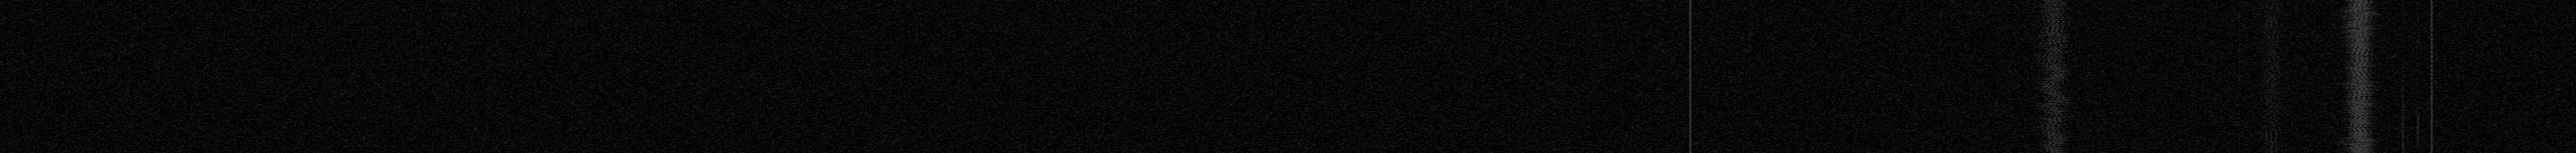wv_am: (2430, 0, 2433, 153), (1689, 0, 1692, 153)
wv_lsb: (2402, 92, 2405, 153), (2402, 58, 2403, 84), (2402, 0, 2403, 26), (2402, 28, 2403, 49), (2402, 86, 2403, 92), (2402, 53, 2403, 56)
wv_usb: (2417, 92, 2420, 151), (2417, 0, 2420, 26), (2238, 63, 2241, 84), (2238, 20, 2241, 35), (2417, 49, 2420, 63), (2417, 38, 2420, 49), (2417, 74, 2420, 84), (2417, 28, 2420, 38), (2238, 137, 2241, 145), (2238, 44, 2241, 53), (2238, 3, 2241, 12), (2417, 86, 2420, 92), (2238, 13, 2241, 20), (2238, 105, 2241, 110), (2417, 67, 2420, 71), (2417, 63, 2420, 66), (2238, 133, 2241, 137), (2238, 130, 2241, 133), (2238, 125, 2241, 128), (2238, 99, 2241, 102), (2238, 90, 2241, 94), (2238, 84, 2241, 87), (2238, 54, 2241, 58), (2238, 41, 2241, 44), (2238, 0, 2241, 3), (2238, 122, 2241, 123), (2238, 118, 2241, 120), (2238, 112, 2241, 114), (2238, 89, 2241, 90), (2238, 61, 2241, 63), (2417, 72, 2418, 74)
wv_wbfm: (2331, 0, 2385, 153), (2029, 0, 2077, 153), (2247, 0, 2295, 153)
